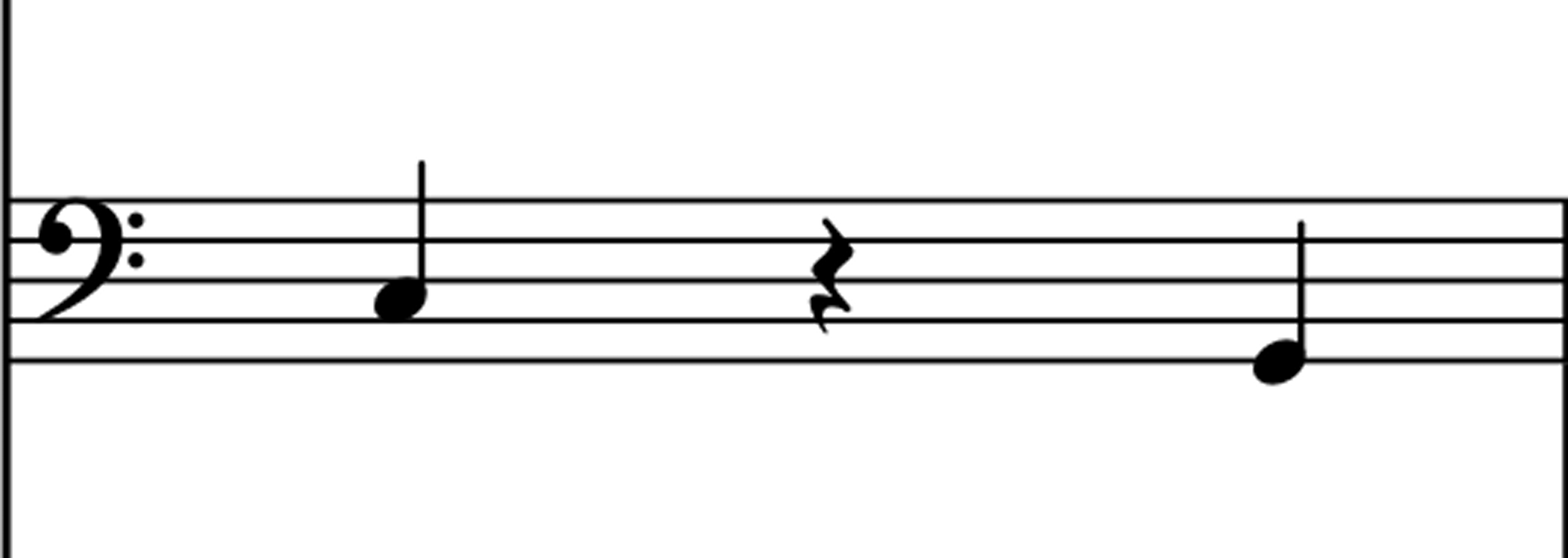clefF: (24, 176, 156, 343)
noteheadBlackInSpace: (375, 277, 423, 318)
noteheadBlackOnLine: (1253, 340, 1304, 383)
restQuarter: (812, 219, 847, 283)
